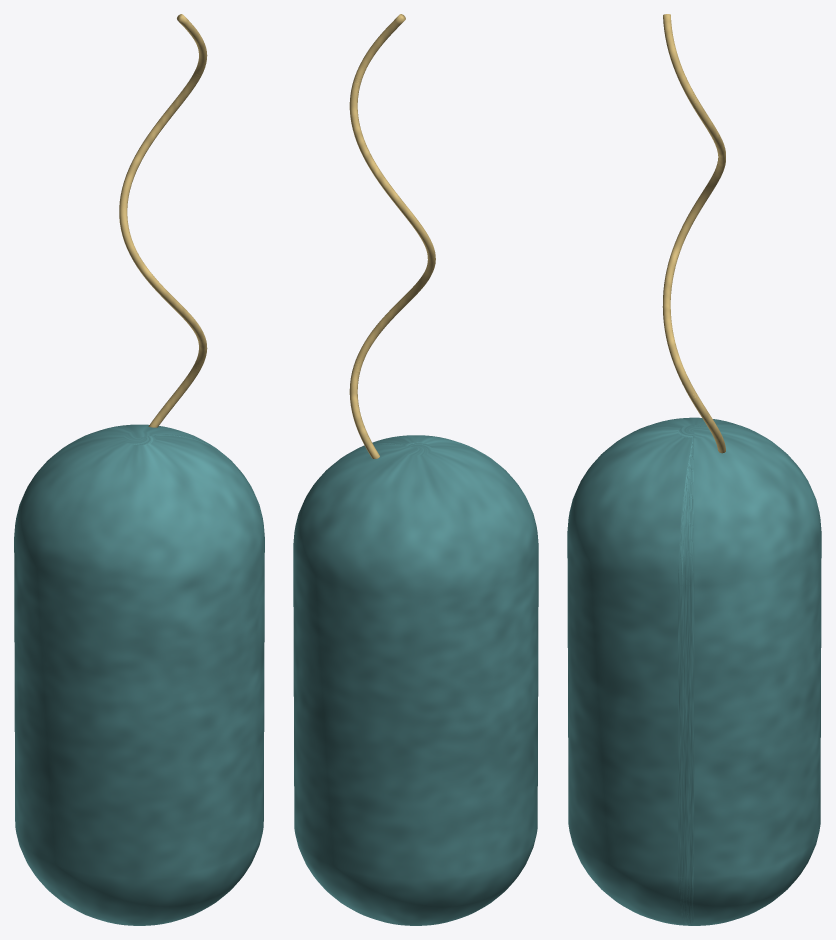
File: complete.glb
3 renders of one model, left to right at view 1: azimuth 30°, elevation 25°; view 2: azimuth 150°, elevation 25°; view 3: azimuth 270°, elevation 25°, orthographic. The views are drawn at different scales.
Visible parts, largest first — view 1: externa_mesh, flagelo_mesh; view 2: externa_mesh, flagelo_mesh; view 3: externa_mesh, flagelo_mesh.
Part boxes in pixels (bbox=[...]): externa_mesh: bbox=[14, 424, 264, 925]; flagelo_mesh: bbox=[119, 14, 207, 427]; externa_mesh: bbox=[293, 435, 538, 925]; flagelo_mesh: bbox=[349, 14, 435, 458]; externa_mesh: bbox=[567, 417, 821, 925]; flagelo_mesh: bbox=[662, 14, 725, 453].
Bounding box in the file's own units: 1.1 × 4.36 × 1.1.
7 materials, 7 textured.
